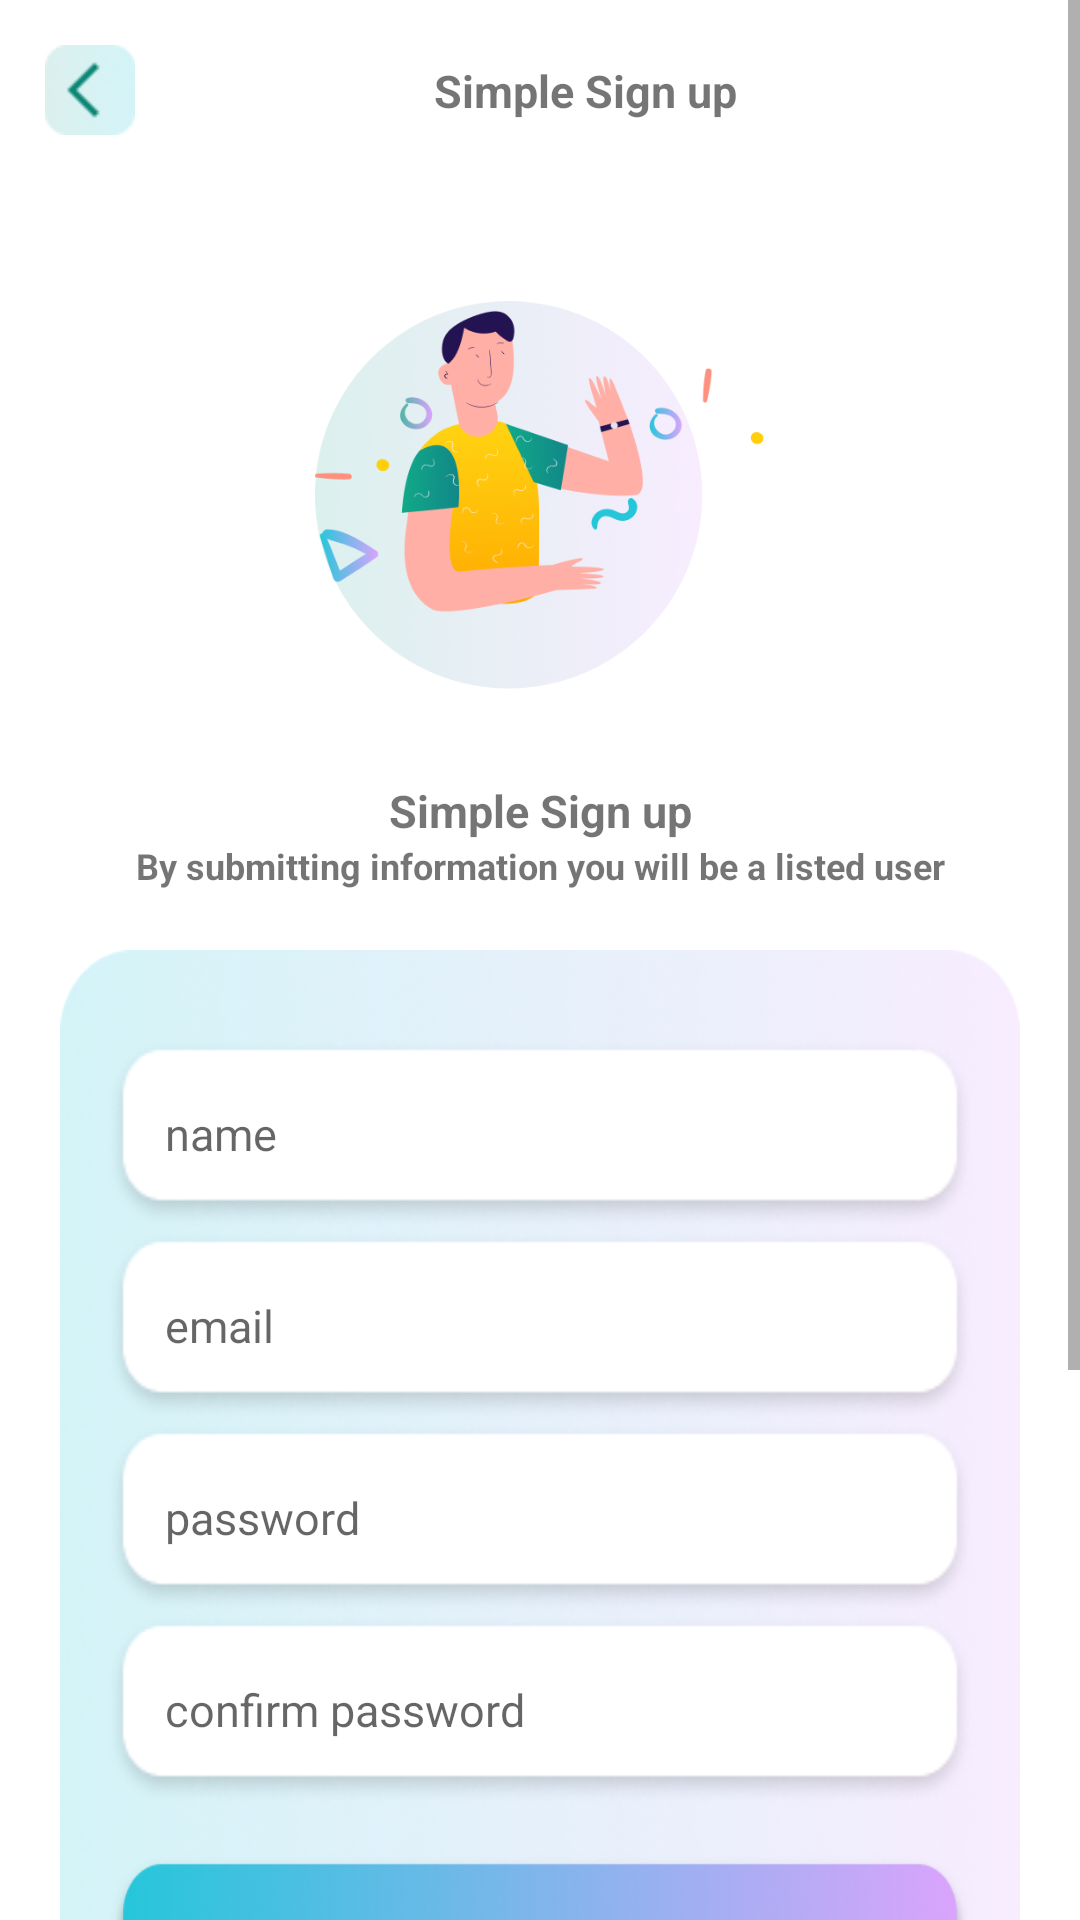

Icons on this 1080 x 1920 Android screen, each with the point to tap as (x,y):
back: (90,90)
